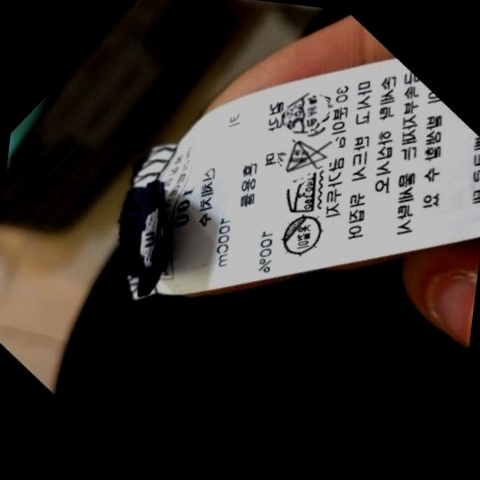hand_wash: (281, 86, 326, 136)
iron_medium: (280, 173, 320, 215)
line_dry_in_shade: (274, 209, 326, 260)
non_chlorine_bleach: (283, 137, 330, 175)
